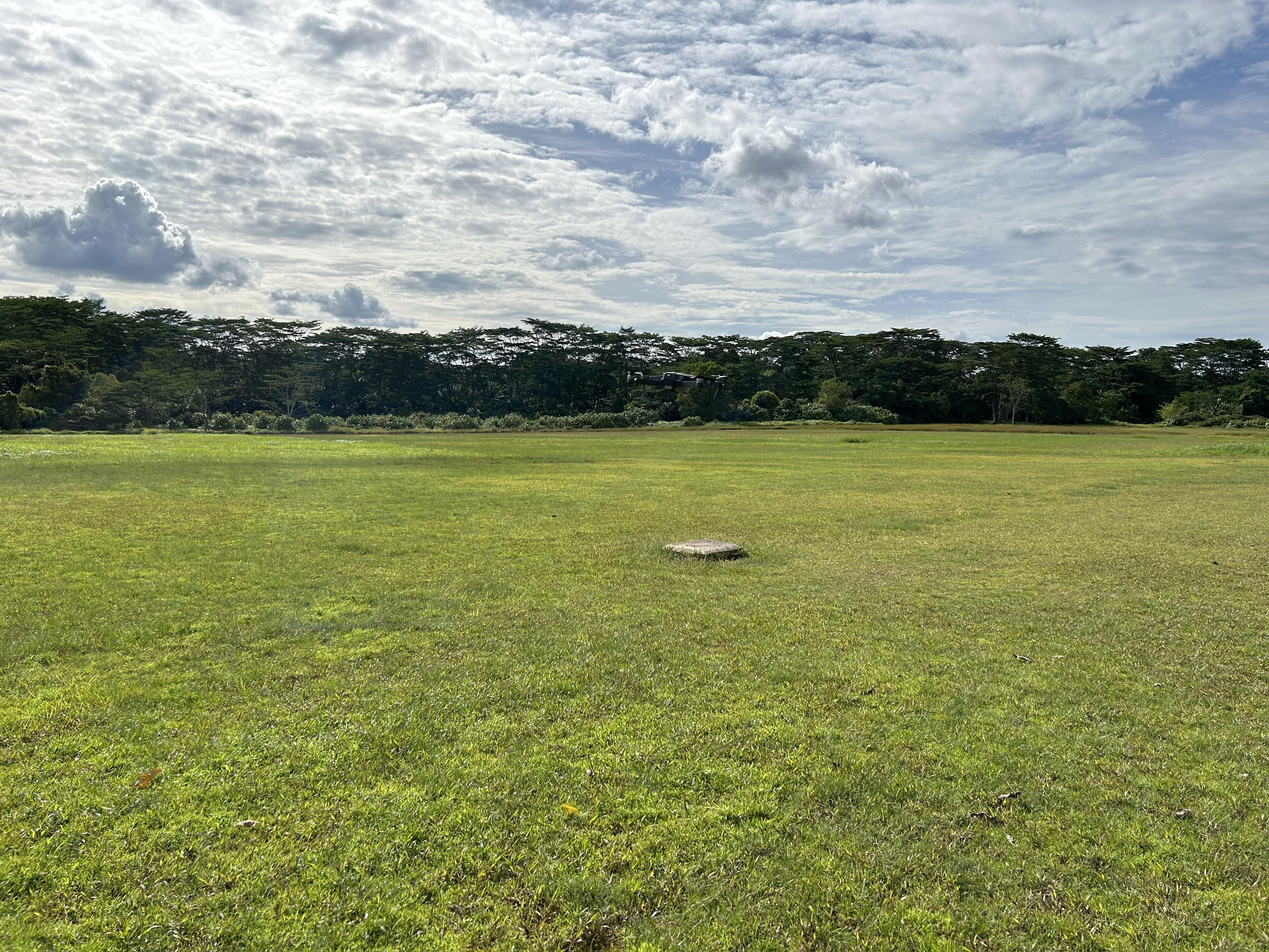drone_other: (624, 364, 732, 401)
